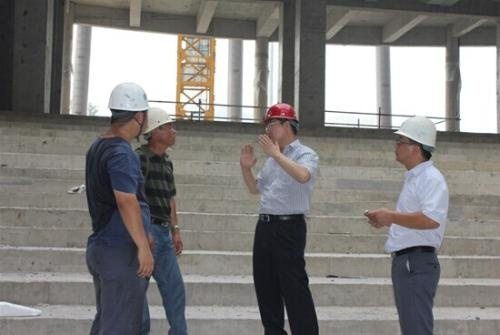red: (262, 103, 300, 148)
white: (106, 79, 149, 138), (391, 114, 437, 169), (141, 105, 176, 152)
